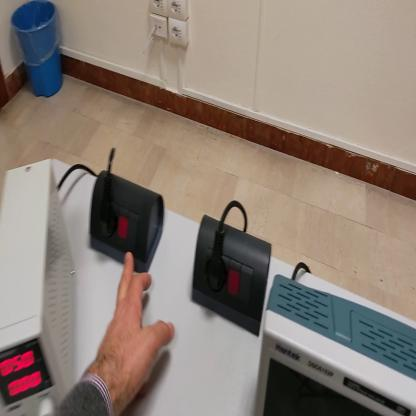hand: (85, 250, 176, 414)
oscilloscope: (253, 274, 416, 416)
power supply: (3, 162, 75, 415)
socket: (191, 217, 273, 339), (88, 171, 164, 274)
